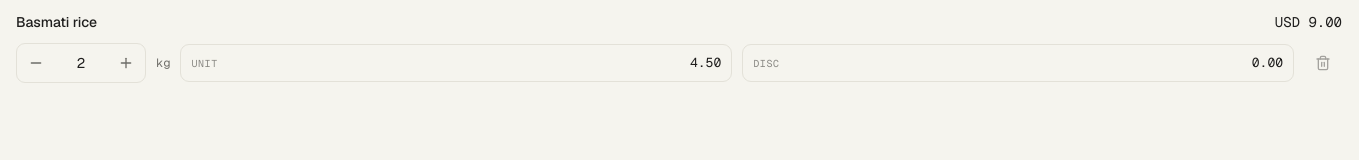
Test: CartLineRow — the quantity stepper › refuses to commit an emptied box, and restores it on the way out
Clear the field named "quantity of basmati rice": [81, 63] box [55,52,107,74]
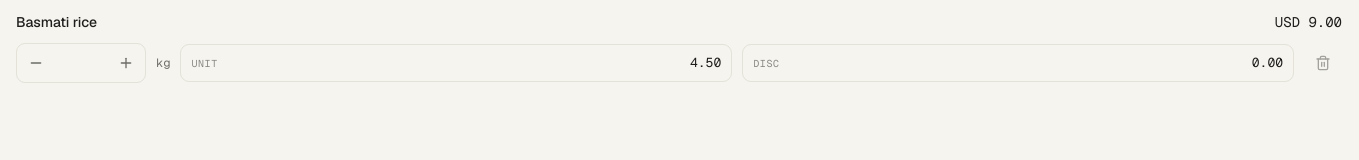
Press Tab
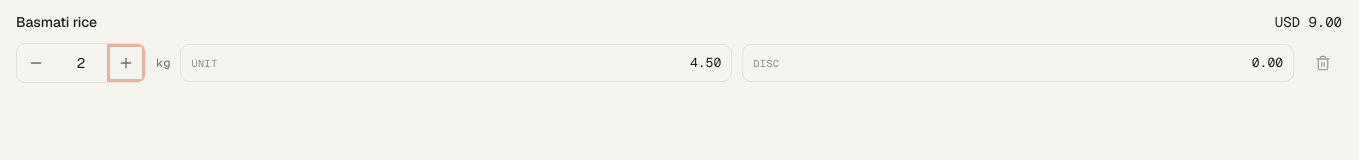
Now the field named "quantity of basmati rice" holds "2", box [55,52,107,74]
